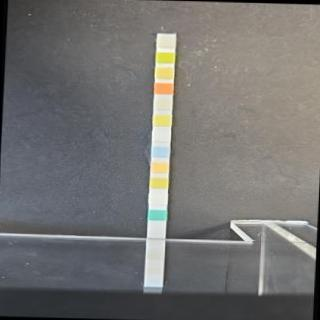mark: (152, 112, 170, 126), (157, 34, 175, 48), (154, 66, 173, 78), (148, 193, 168, 204), (148, 208, 166, 220), (150, 176, 168, 188), (150, 160, 168, 172), (156, 52, 174, 64), (156, 81, 172, 94), (152, 130, 168, 142), (154, 96, 170, 108), (152, 146, 168, 156)
